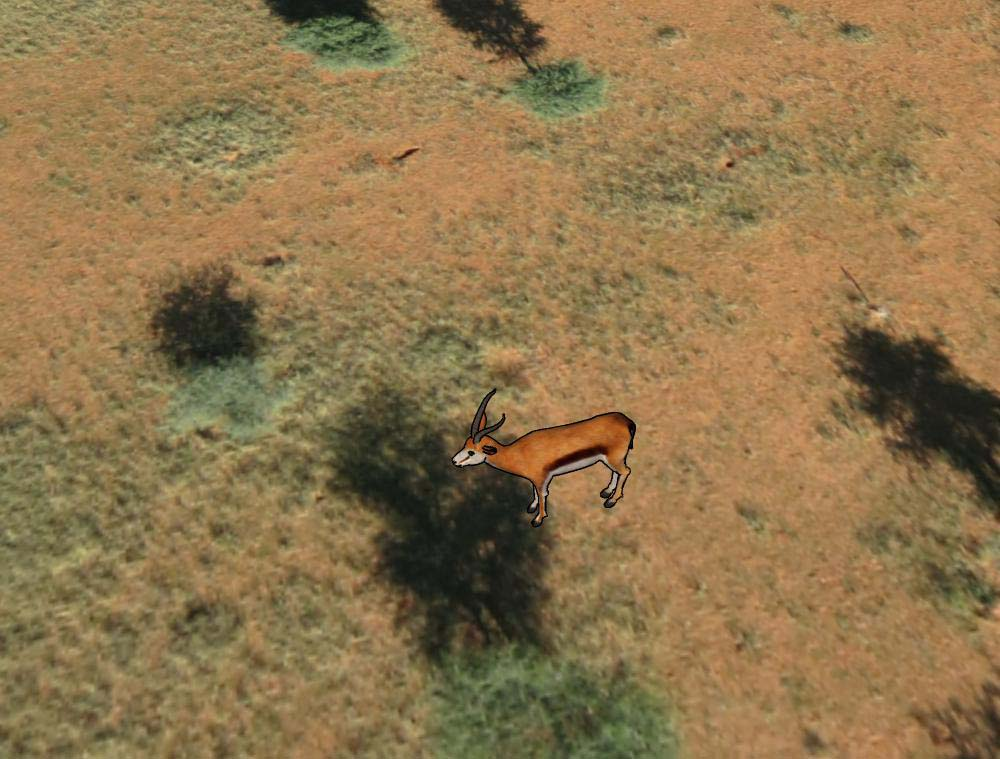springbok: (450, 383, 638, 535)
